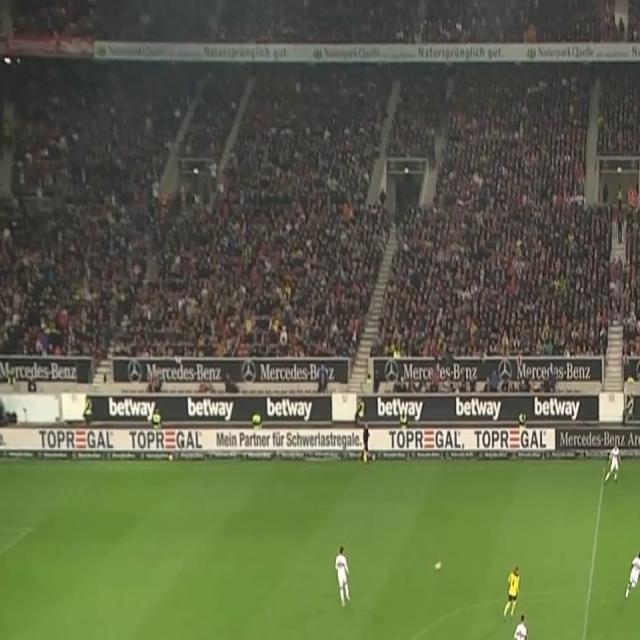ball: (433, 558, 442, 572)
